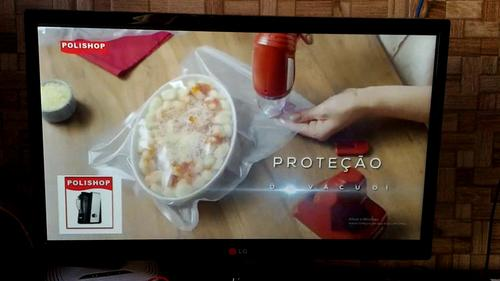Polishop #1: (57, 175, 122, 233)
